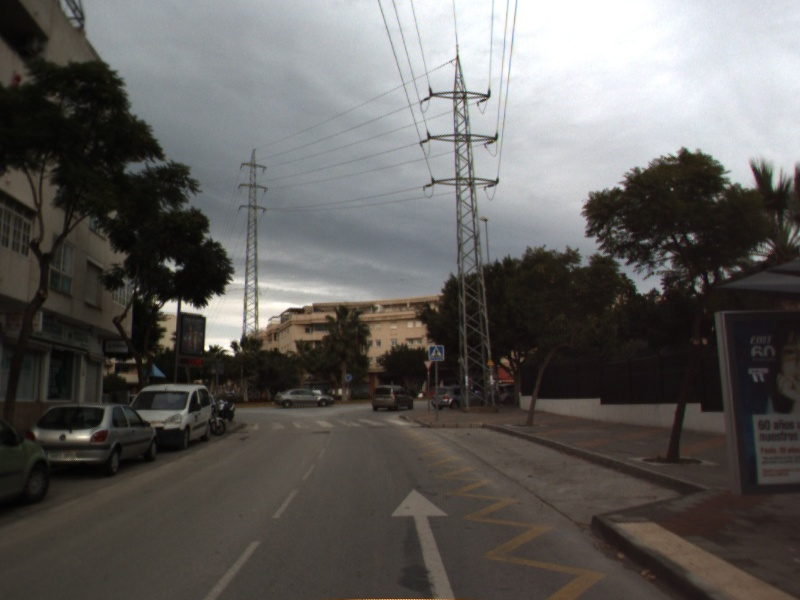STRAIGHT: (388, 485, 460, 600)
